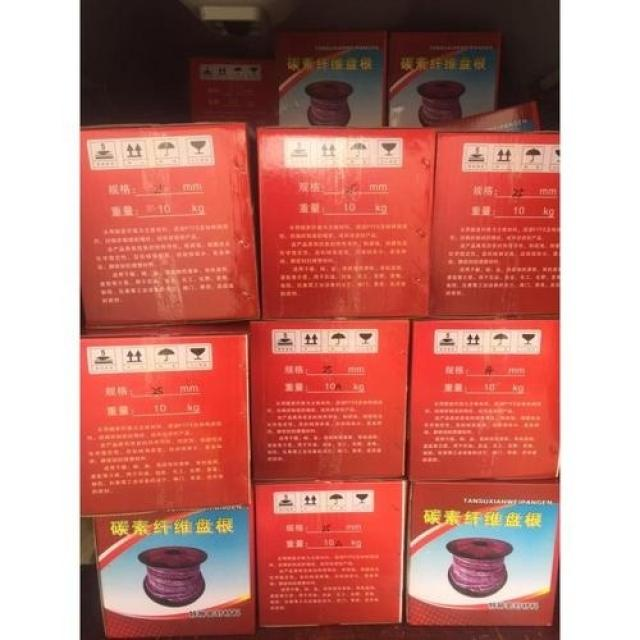box: (79, 123, 260, 331), (258, 127, 436, 319), (80, 324, 253, 516), (250, 318, 411, 481), (408, 317, 560, 481), (430, 132, 560, 317), (254, 479, 405, 630), (403, 482, 561, 625), (93, 505, 255, 636), (388, 33, 502, 128), (275, 32, 387, 127), (192, 59, 280, 127), (434, 103, 542, 133)
